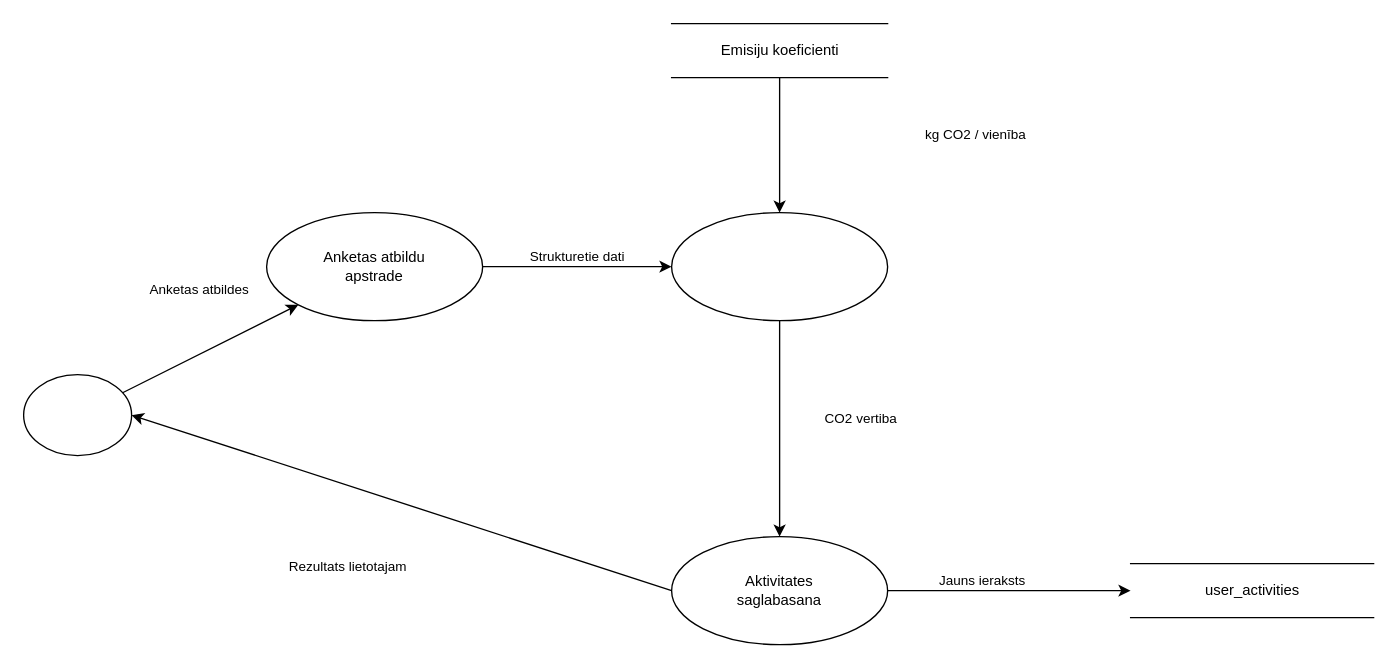
The diagram is 1397 pixels wide and 668 high, and some of its shapes have lost their labels. Here are the shapes that lost their labels. From the top down, the box of each, then its label:
(670, 211, 888, 321): CO2 pedas aprekins
(22, 373, 132, 456): Lietotajs
